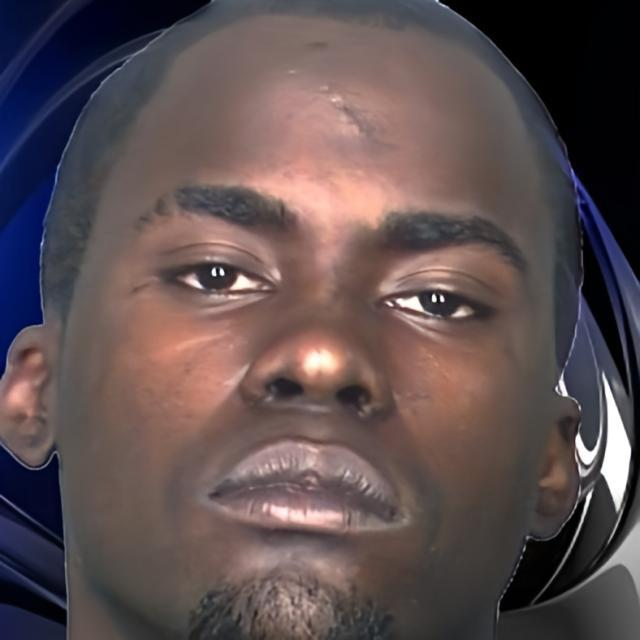neutral: (64, 16, 552, 640)
